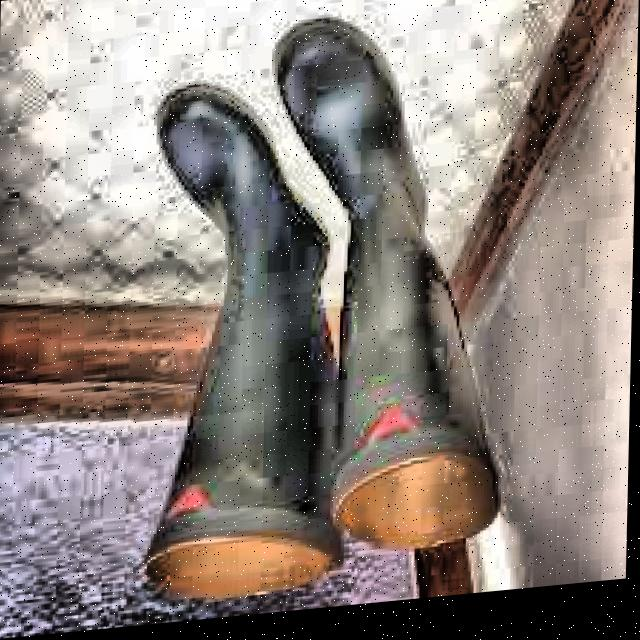shoes: (92, 0, 521, 617)
